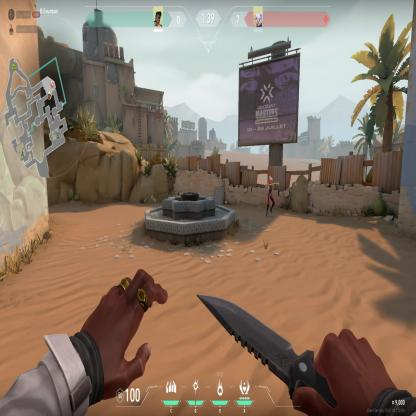enemy: (266, 177, 275, 218)
